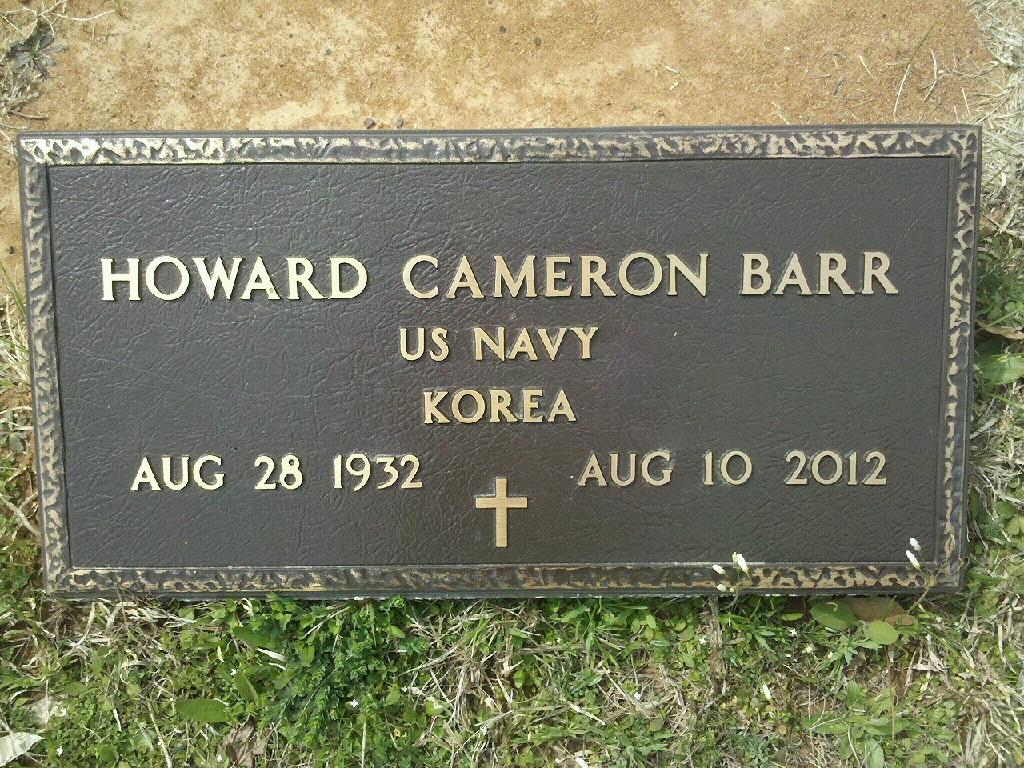plaque: (14, 116, 999, 607)
